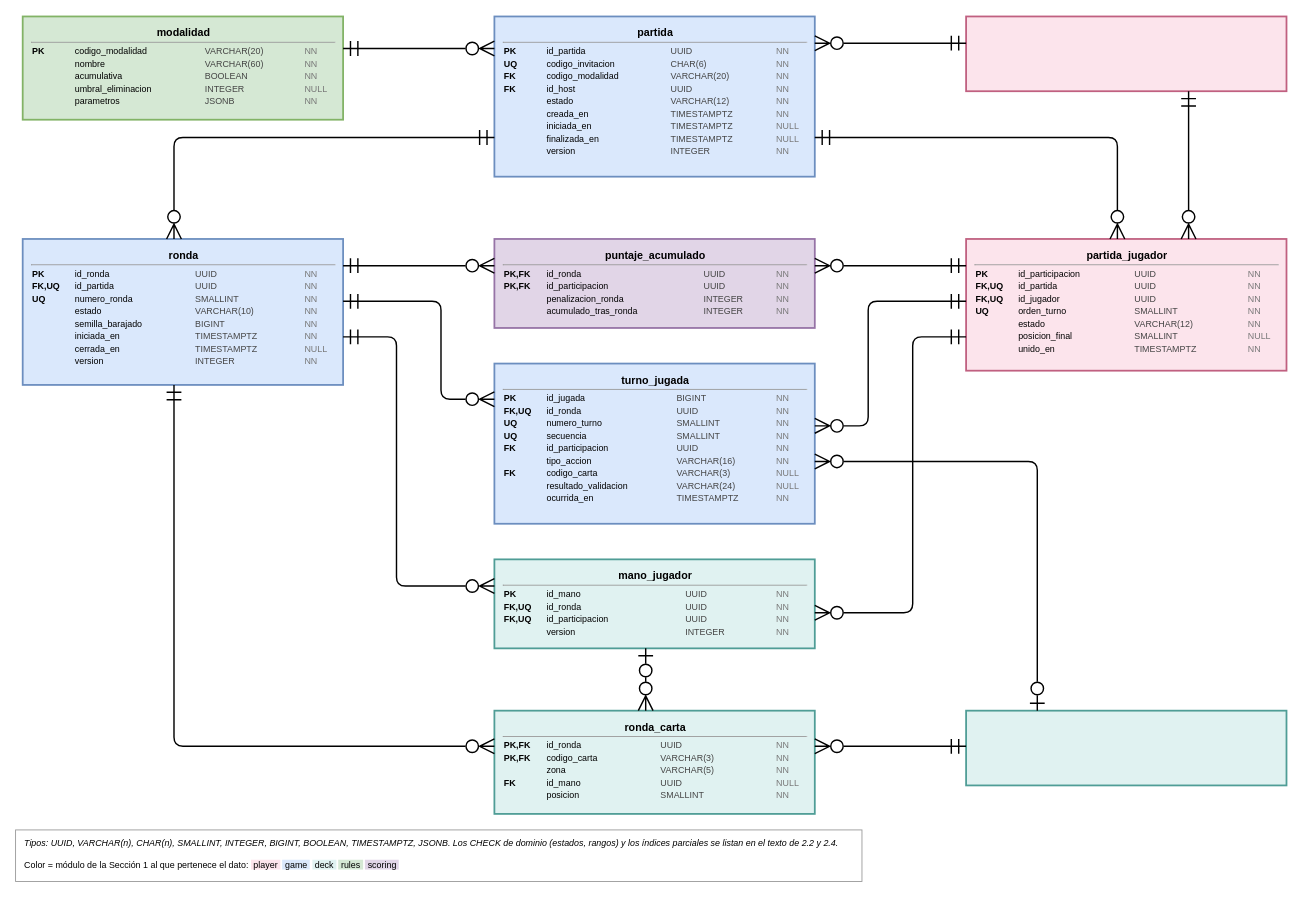
This 1303x897 diagram has some shape labels left out. The centre of each missing label's shape, as x and y in pixels:
"carta PK codigo_carta VARCHAR(3) NN palo VARCHAR(8) NN rango SMALLINT NN" belongs at pixel 1126 747.
"jugador PK id_jugador UUID NN UQ alias VARCHAR(40) NN creado_en TIMESTAMPTZ NN" belongs at pixel 1126 53.
